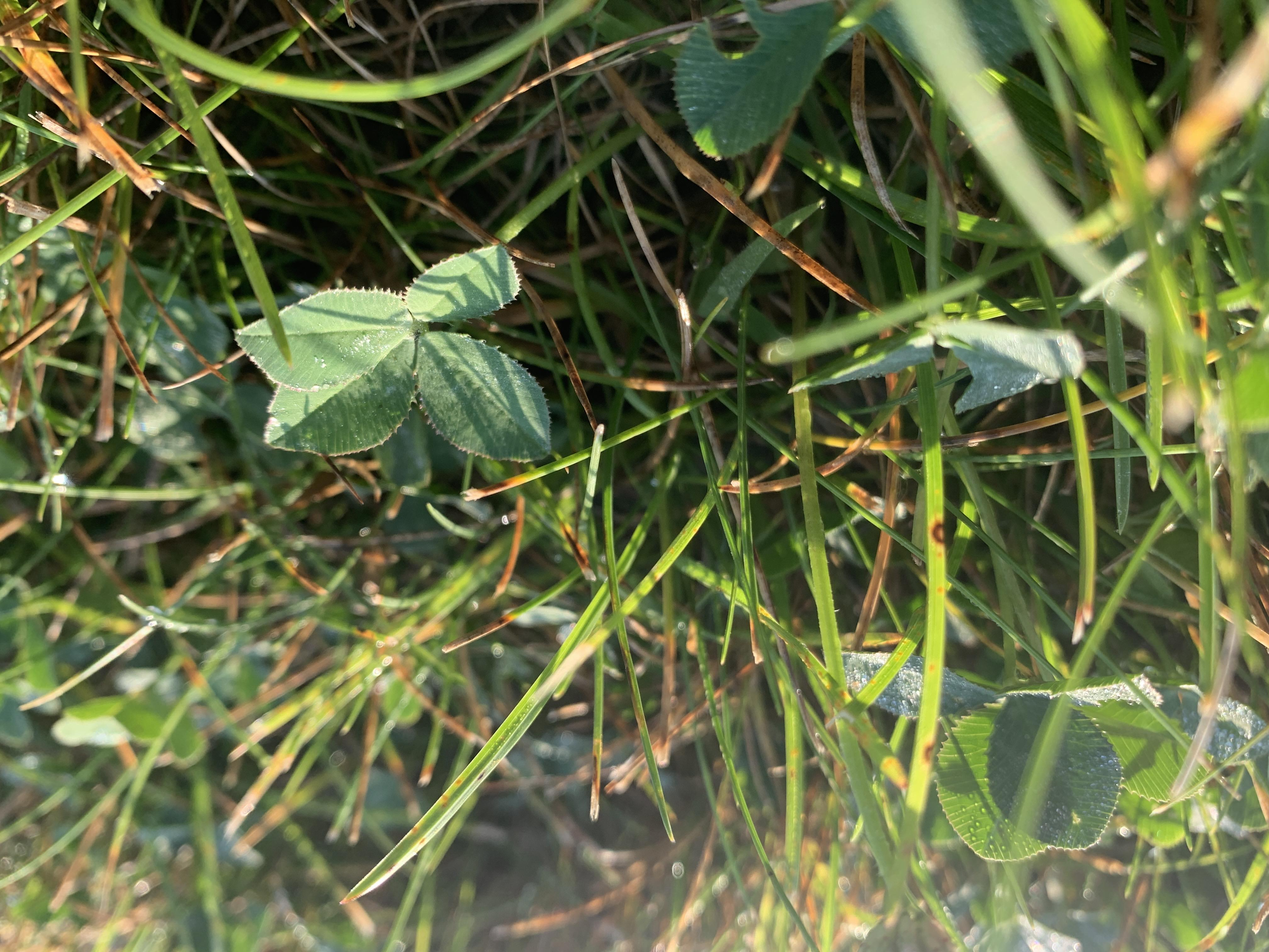4-Leaf-Clovers: (643, 176, 944, 410)
